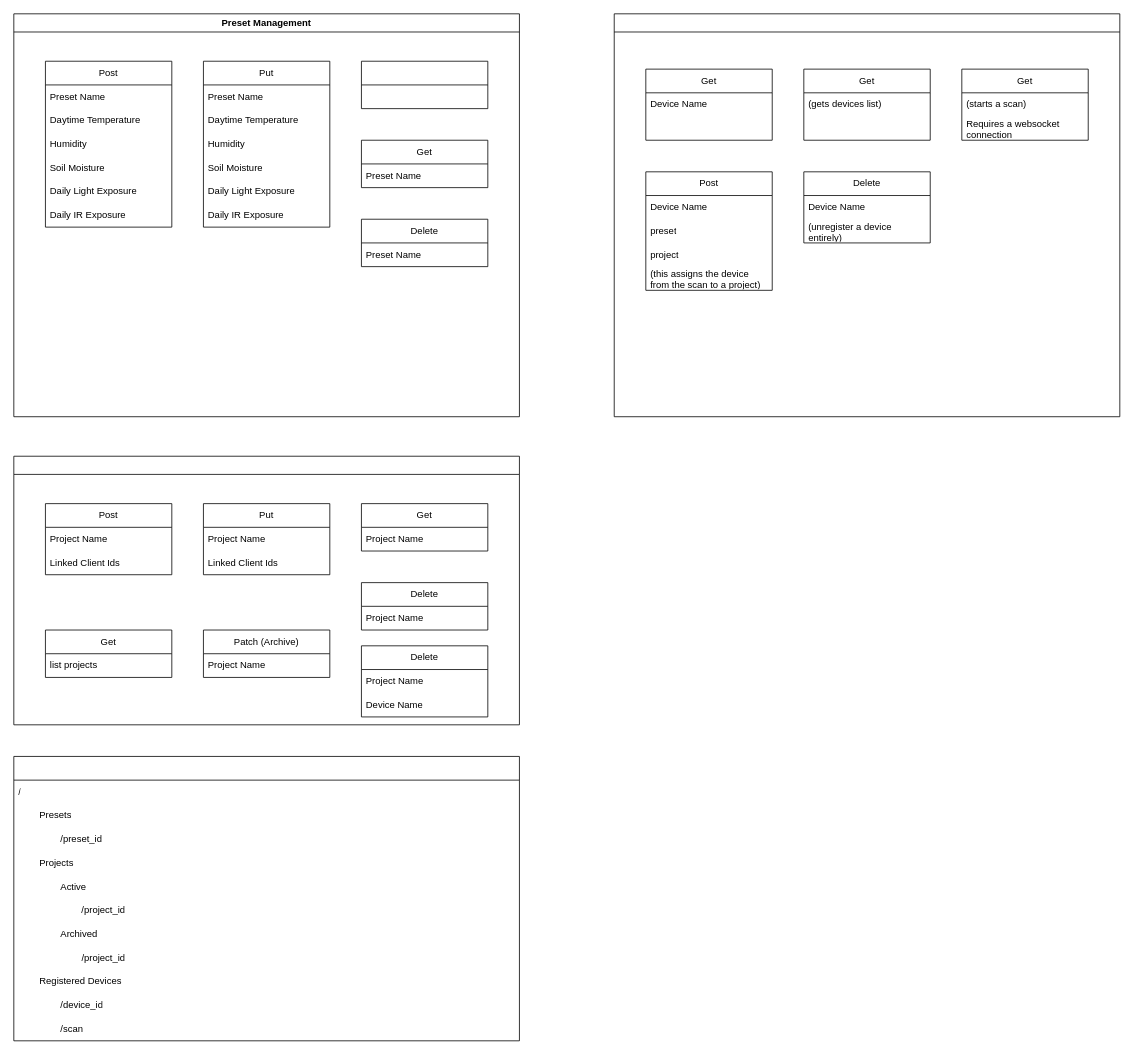
Some shapes in this 1134 by 1055 pixel diagram are drawn without their labels. The shapes that lost their labels are listed below. From the top down, each one's box as (x1, y1, x2, y2) in pixels, then its label:
(361, 60, 488, 109): Get (list of presets)
(613, 13, 1120, 417): Device Management
(13, 455, 519, 725): Project Management
(13, 756, 519, 1041): Webapp structure
